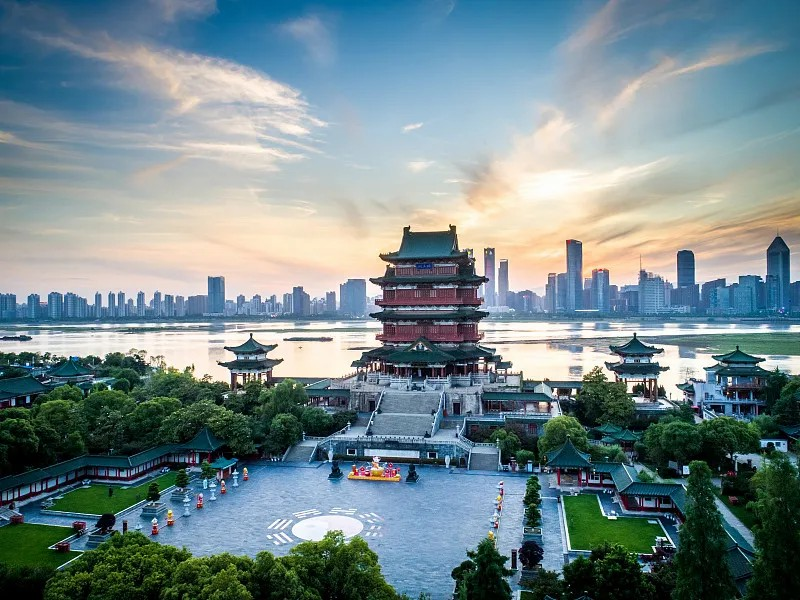Teng: (353, 225, 513, 383)
